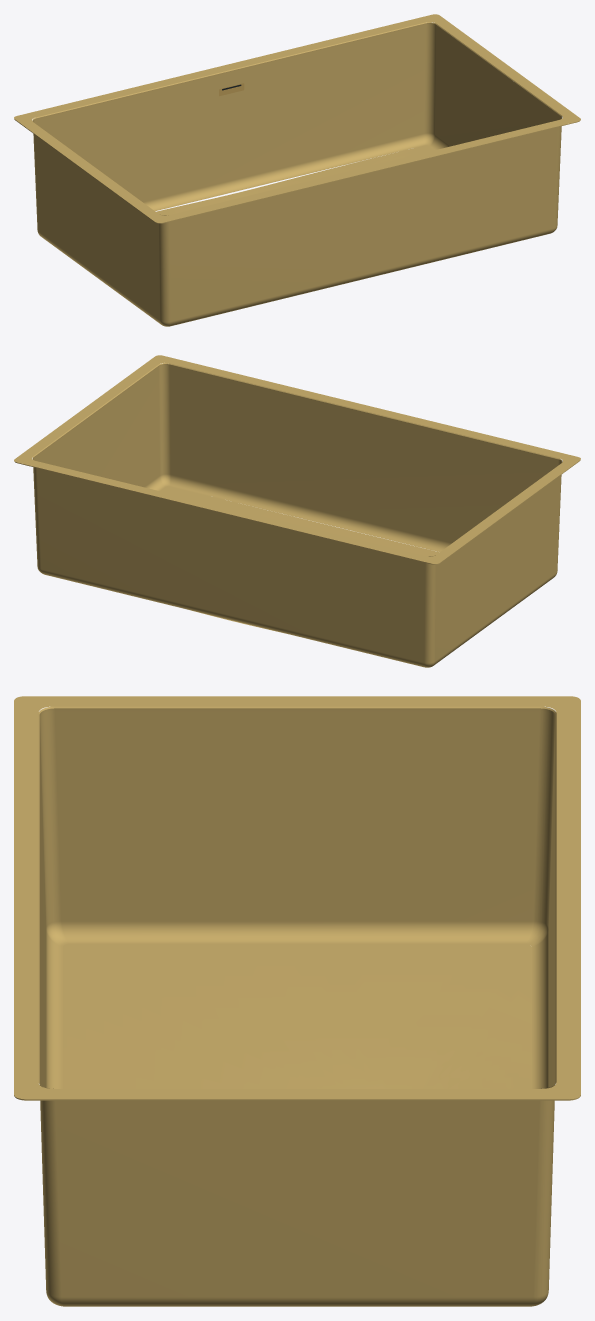
File: lava_loica-lody70-oro.glb
3 renders of one model, top to bottom at view 1: azimuth 30°, elevation 25°; view 2: azimuth 150°, elevation 25°; view 3: azimuth 270°, elevation 25°, orthographic. The views are drawn at different scales.
Visible parts, largest first — view 1: Lody · paredes da cuba, Lody · aba 20 mm · exterior R10, Lody · fundo com abertura circular, Lody · transição da abertura, Lody · espessura da aba; view 2: Lody · paredes da cuba, Lody · aba 20 mm · exterior R10, Lody · fundo com abertura circular, Lody · transição da abertura, Lody · espessura da aba; view 3: Lody · paredes da cuba, Lody · fundo com abertura circular, Lody · aba 20 mm · exterior R10, Lody · transição da abertura, Lody · espessura da aba.
Part boxes in pixels (x1,y1,x2,y2): Lody · paredes da cuba: (33, 23, 561, 326); Lody · aba 20 mm · exterior R10: (14, 14, 580, 222); Lody · fundo com abertura circular: (156, 145, 434, 215); Lody · transição da abertura: (32, 22, 562, 215); Lody · espessura da aba: (14, 119, 580, 223); Lody · paredes da cuba: (33, 364, 561, 667); Lody · aba 20 mm · exterior R10: (14, 355, 580, 563); Lody · fundo com abertura circular: (160, 486, 439, 632); Lody · transição da abertura: (32, 363, 562, 556); Lody · espessura da aba: (14, 460, 580, 564); Lody · paredes da cuba: (39, 708, 555, 1306); Lody · fundo com abertura circular: (63, 943, 531, 1088); Lody · aba 20 mm · exterior R10: (14, 696, 580, 1099); Lody · transição da abertura: (38, 706, 556, 1088); Lody · espessura da aba: (14, 1095, 580, 1100).
Bounding box in the file's own units: 0.74 × 0.214 × 0.44.
